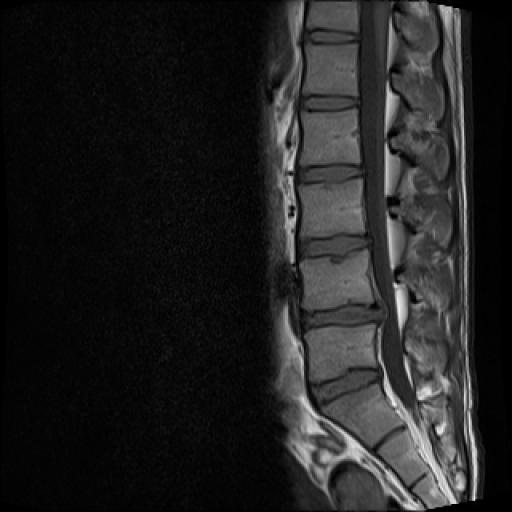L1: (304, 44, 358, 96)
L2: (300, 108, 361, 166)
L3: (300, 178, 365, 236)
L4: (300, 249, 374, 310)
L5: (304, 326, 376, 382)
S1: (319, 383, 403, 448)
